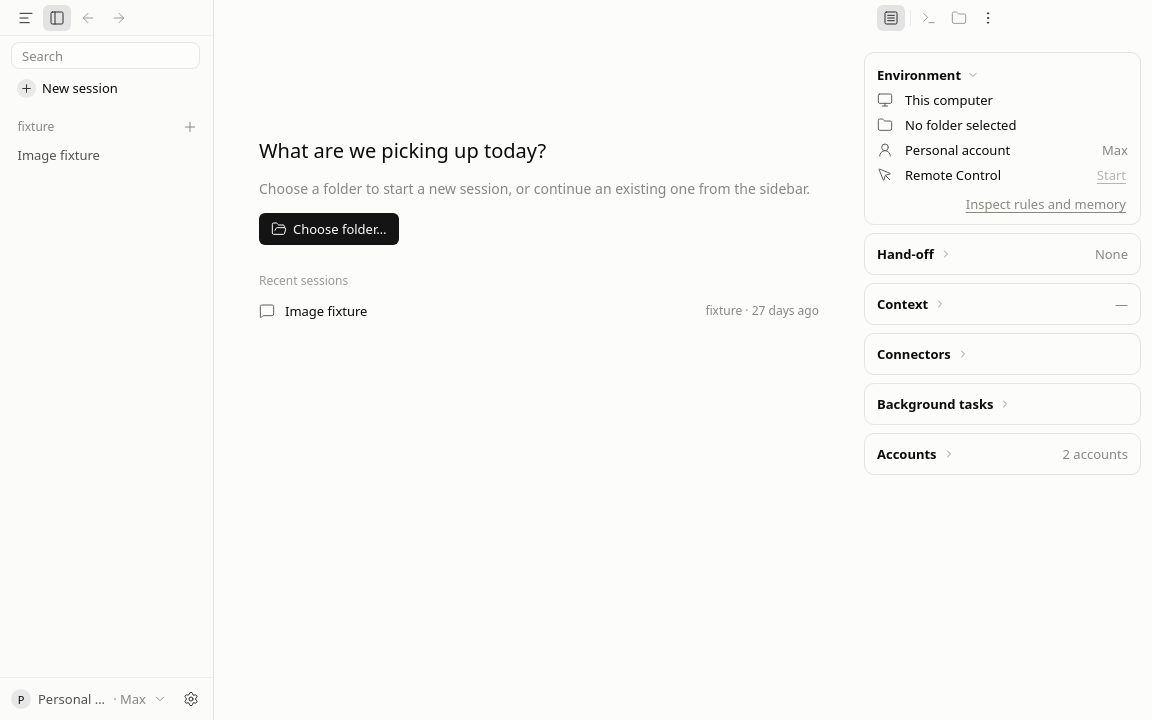
Test: transcript images › shows real thumbnails on the tool line and under the user message, placeholders when bytes are gone
Click the button "Image fixture" at (106, 155), box [7,141,206,169]
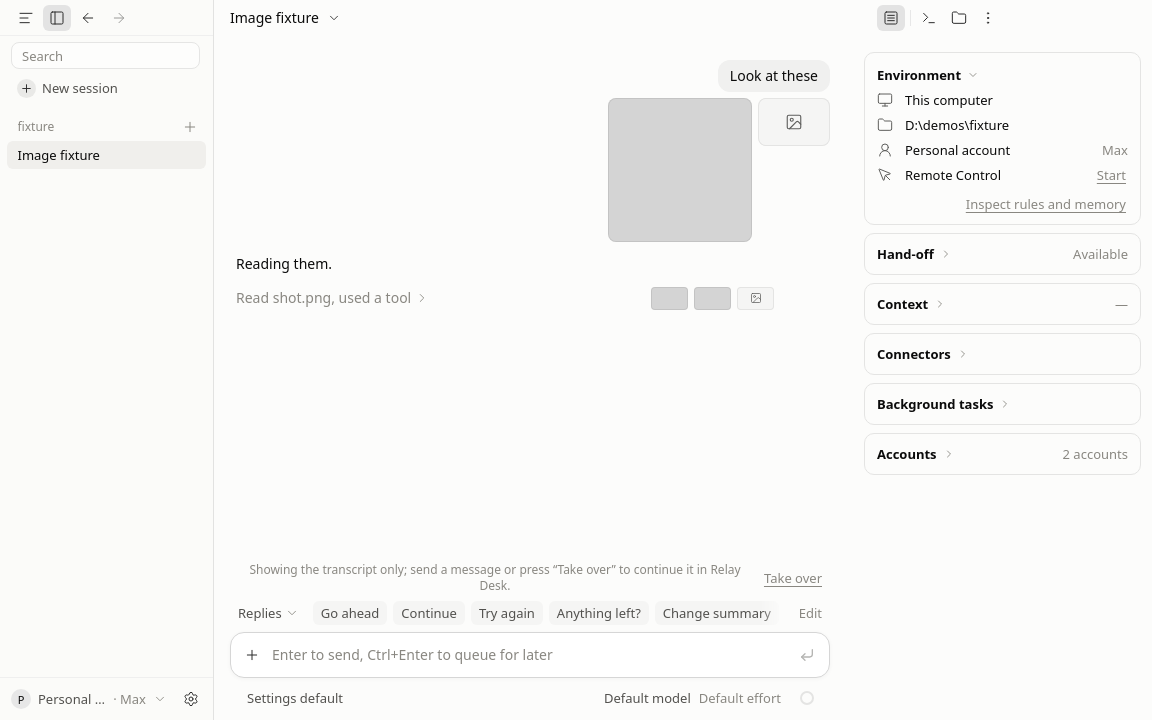
expect the element with test id "assistant-message" is shown: met, box [236,254,332,273]
